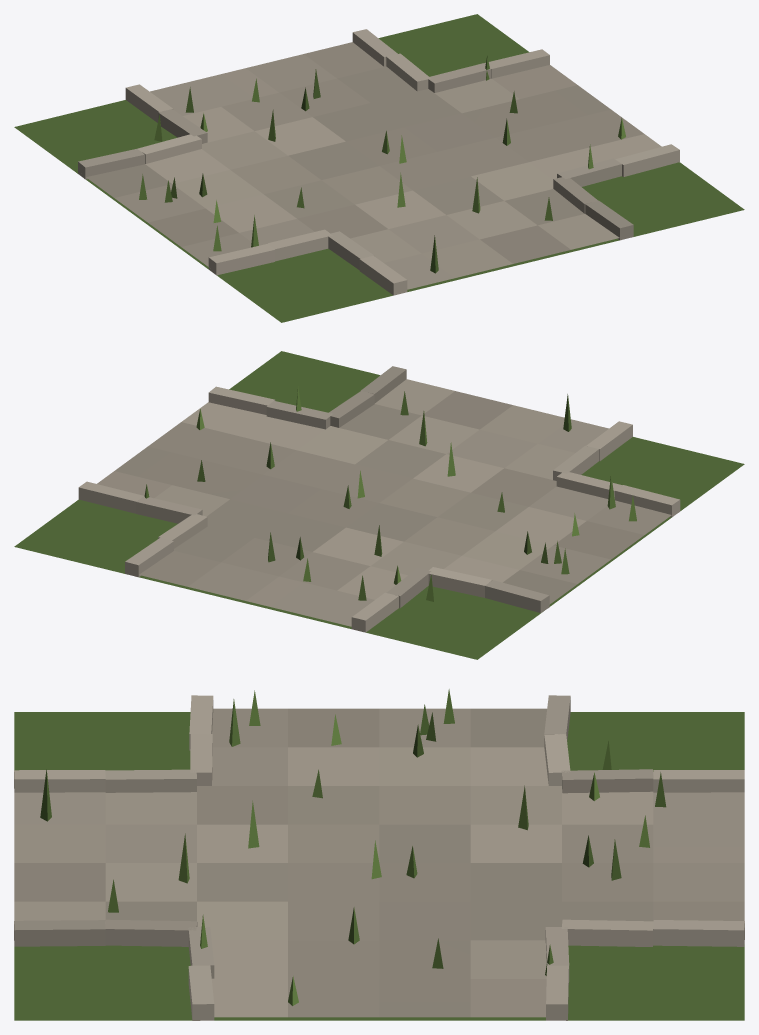
File: cobble-cross.glb
3 renders of one model, top to bottom at view 1: azimuth 30°, elevation 25°; view 2: azimuth 150°, elevation 25°; view 3: azimuth 270°, elevation 25°, orthographic. The views are drawn at different scales.
Visible parts, largest first — view 1: ground/cobble-cross; view 2: ground/cobble-cross; view 3: ground/cobble-cross.
Part boxes in pixels (x1,y1,x2,y2): ground/cobble-cross: (14, 14, 744, 322); ground/cobble-cross: (14, 351, 744, 659); ground/cobble-cross: (14, 689, 744, 1020).
Bounding box in the file's own units: 4 × 0.3265 × 4.
